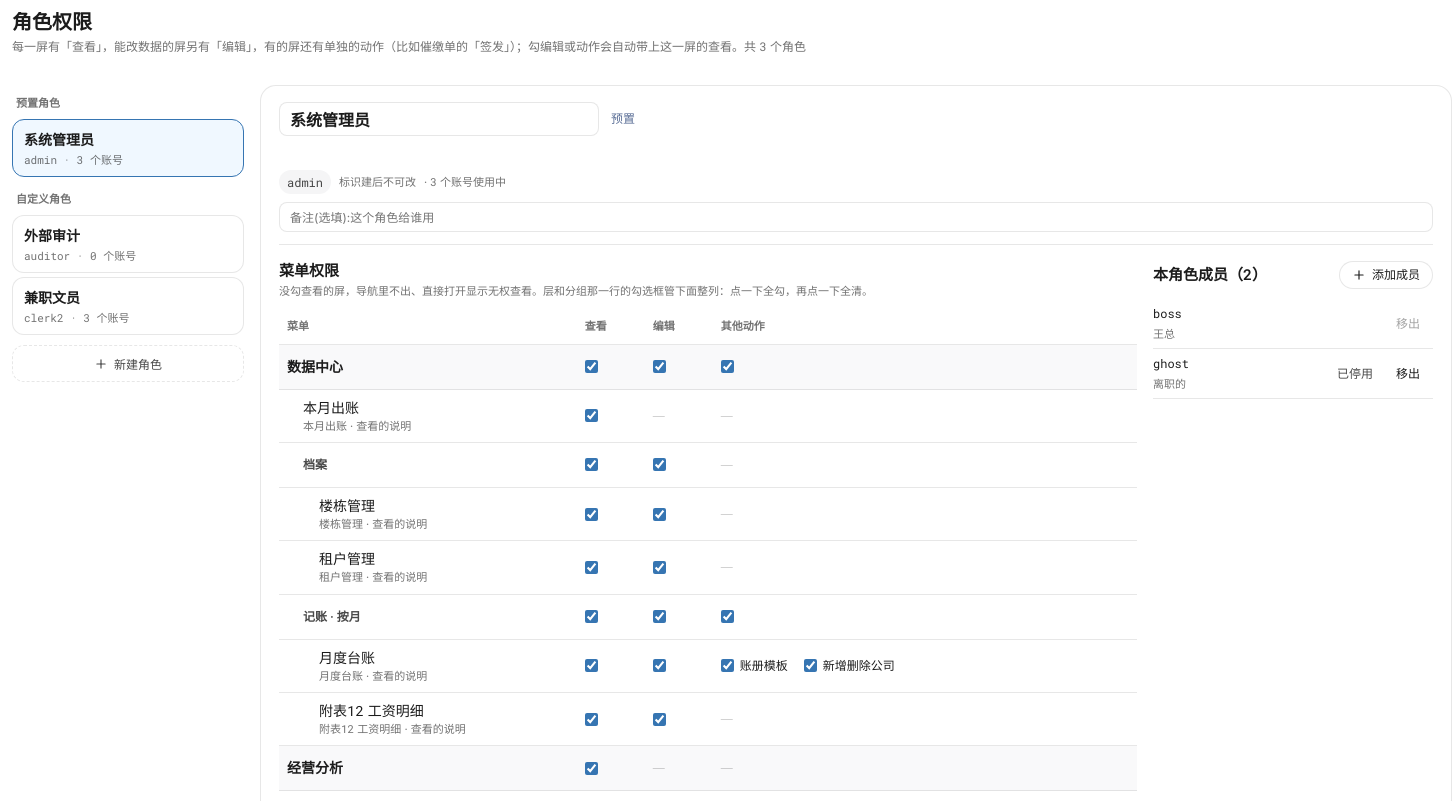
Scenario: 成员栏 › 本角色成员 = 账号列表里挂着这个角色的;停用的带「已停用」,自己带「你」;没有成员时说一句
The image size is (1452, 801).
Expected: the text with class "sr-sectitle" reads "本角色成员（2）", [1153, 265, 1267, 284]
Click the button with class "sr-item" showing "兼职文员 clerk2 · 3 个账号" at {"x": 128, "y": 306}, box [12, 277, 244, 335]
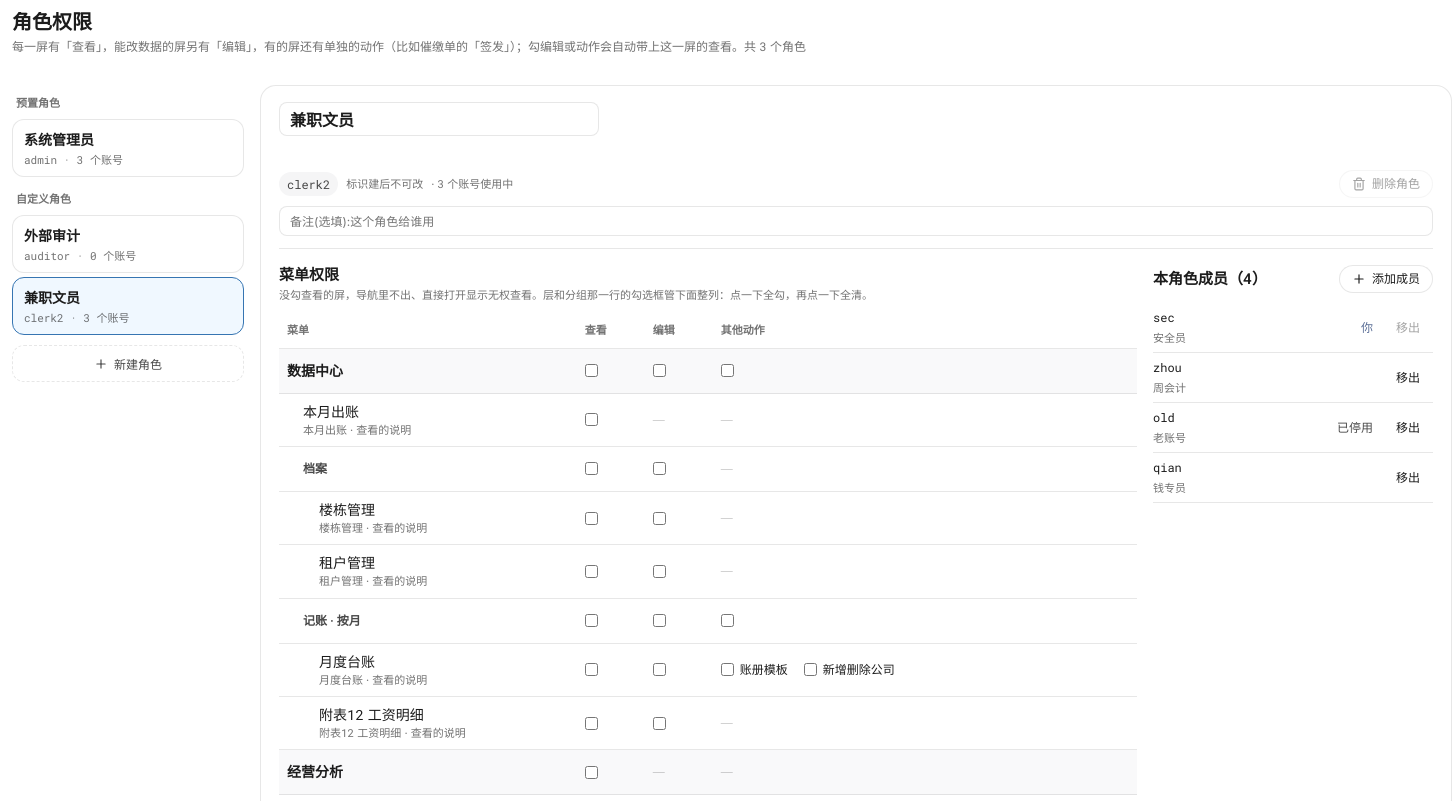
Click the button with class "sr-item" showing "外部审计 auditor · 0 个账号" at {"x": 128, "y": 244}, box [12, 215, 244, 273]
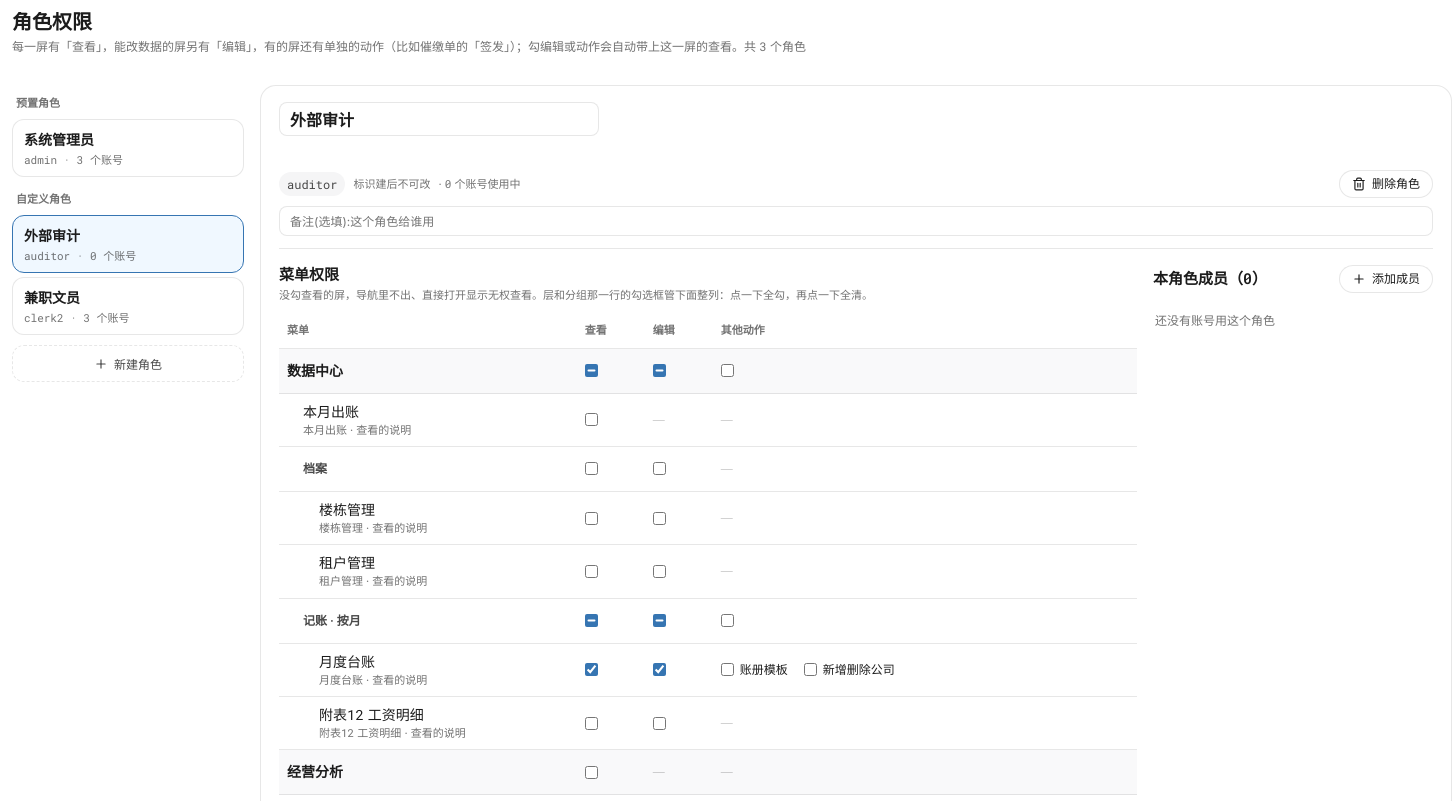
Result: the element with class "sr-mem" shows "还没有账号用这个角色" at [1155, 313, 1275, 328]
